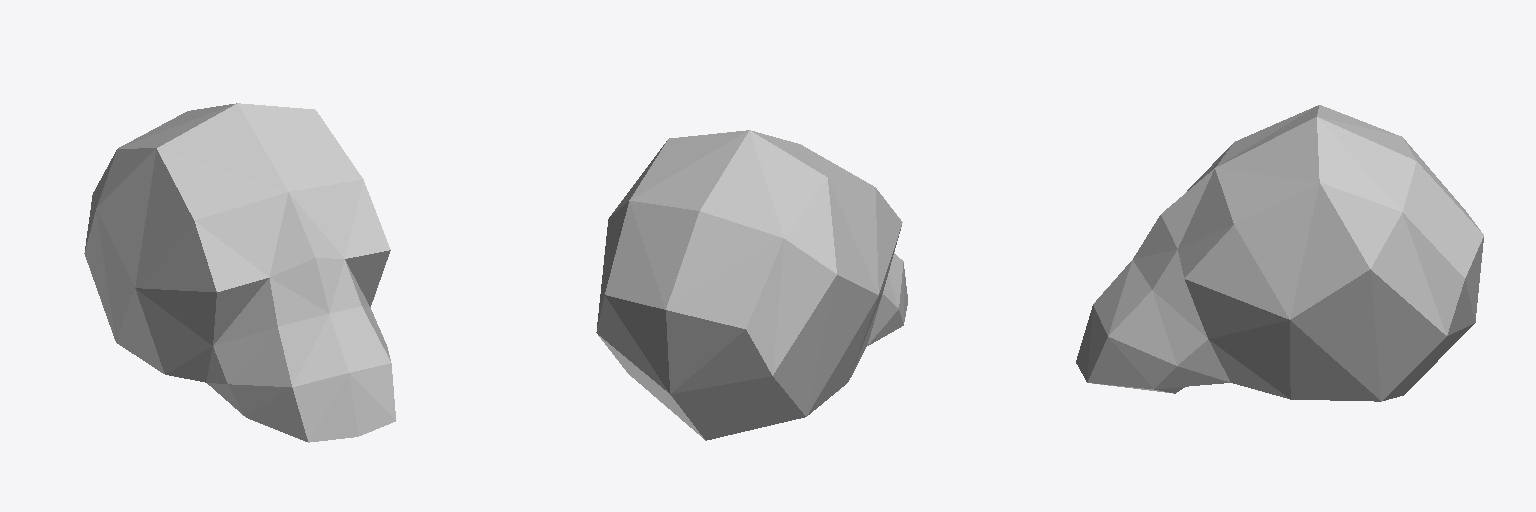
File: skull_03.obj
3 views of the same model, side by side, from view 1: azimuth 30°, elevation 25°; view 2: azimuth 150°, elevation 25°; view 3: azimuth 270°, elevation 25° (orthographic).
Parts seen in each view (by area): view 1: skull_03; view 2: skull_03; view 3: skull_03.
Boxes of the visible parts, <box> form: skull_03: <box>84,103,395,442</box>; skull_03: <box>596,130,907,440</box>; skull_03: <box>1076,105,1483,401</box>.
Bounding box in the file's own units: 25.68 × 29.52 × 39.21.